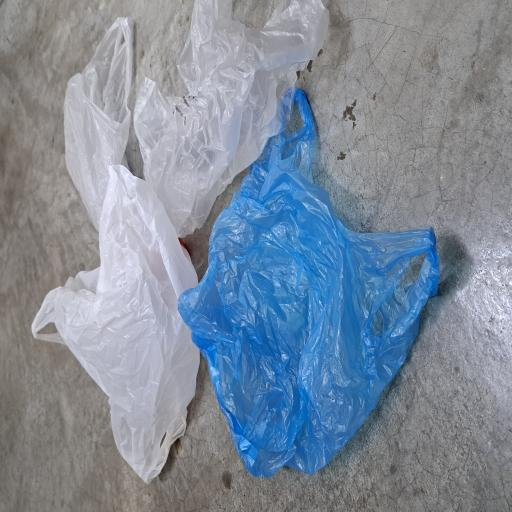plastic bag: (23, 236, 318, 512), (19, 41, 259, 265), (205, 178, 384, 442), (207, 83, 373, 177)
